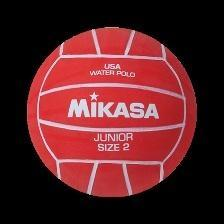Sports-Ball: (25, 34, 198, 200)
